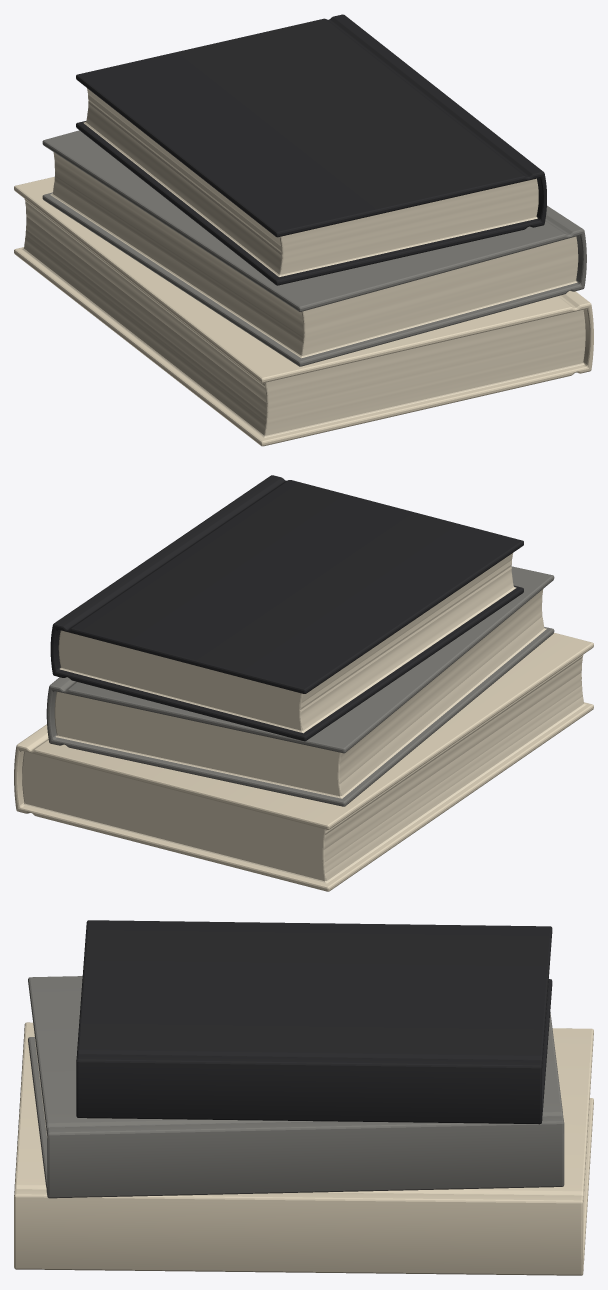
The model's file is books_stack.fbx.
3 renders of one model, top to bottom at view 1: azimuth 30°, elevation 25°; view 2: azimuth 150°, elevation 25°; view 3: azimuth 270°, elevation 25°, orthographic. The views are drawn at different scales.
Visible parts, largest first — view 1: books_stack; view 2: books_stack; view 3: books_stack.
Boxes of the visible parts, <box> form: books_stack: <box>14,14,593,446</box>; books_stack: <box>14,475,593,891</box>; books_stack: <box>14,920,593,1275</box>.
Size of the model in its own units: 0.1657 by 0.2241 by 0.0854.
